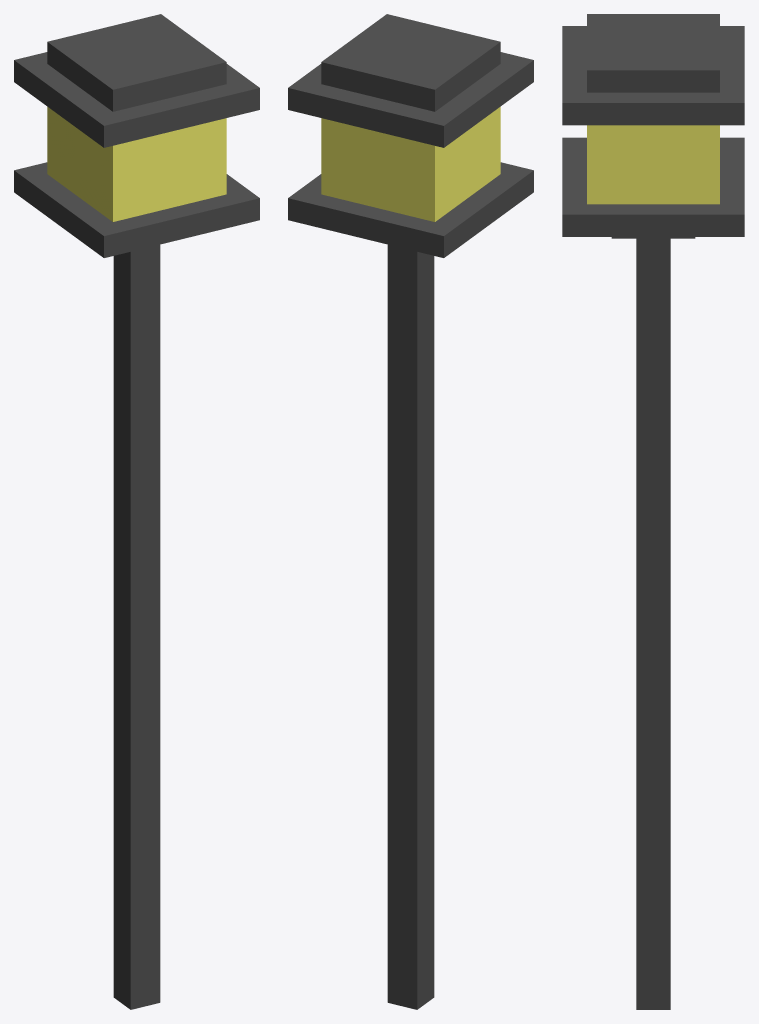
Rendered from largePost.gltf.
3 views of the same model, side by side, from view 1: azimuth 30°, elevation 25°; view 2: azimuth 150°, elevation 25°; view 3: azimuth 270°, elevation 25° (orthographic).
Parts seen in each view (by area): view 1: 088d94b4-bfa8-b13d-3b0f-8d89c7a740f9, 587c65e6-ebe7-c678-19a5-aa0e1d98896d, a1606d24-9326-ad17-ff07-e4dd0af6e23f, 0d2db774-0e00-a23d-6f2c-199df4cc744d, a0c8d789-b07d-1905-6dd7-1ca40553b066; view 2: 088d94b4-bfa8-b13d-3b0f-8d89c7a740f9, 587c65e6-ebe7-c678-19a5-aa0e1d98896d, a1606d24-9326-ad17-ff07-e4dd0af6e23f, 0d2db774-0e00-a23d-6f2c-199df4cc744d, a0c8d789-b07d-1905-6dd7-1ca40553b066; view 3: 088d94b4-bfa8-b13d-3b0f-8d89c7a740f9, 587c65e6-ebe7-c678-19a5-aa0e1d98896d, a1606d24-9326-ad17-ff07-e4dd0af6e23f, a0c8d789-b07d-1905-6dd7-1ca40553b066, 0d2db774-0e00-a23d-6f2c-199df4cc744d.
Boxes of the visible parts, x1=… form: 088d94b4-bfa8-b13d-3b0f-8d89c7a740f9: x1=113, y1=244, x2=160, y2=1009; 587c65e6-ebe7-c678-19a5-aa0e1d98896d: x1=47, y1=107, x2=226, y2=221; a1606d24-9326-ad17-ff07-e4dd0af6e23f: x1=47, y1=14, x2=226, y2=111; 0d2db774-0e00-a23d-6f2c-199df4cc744d: x1=14, y1=162, x2=259, y2=257; a0c8d789-b07d-1905-6dd7-1ca40553b066: x1=14, y1=52, x2=259, y2=147; 088d94b4-bfa8-b13d-3b0f-8d89c7a740f9: x1=387, y1=244, x2=434, y2=1009; 587c65e6-ebe7-c678-19a5-aa0e1d98896d: x1=321, y1=107, x2=500, y2=221; a1606d24-9326-ad17-ff07-e4dd0af6e23f: x1=321, y1=14, x2=500, y2=111; 0d2db774-0e00-a23d-6f2c-199df4cc744d: x1=288, y1=162, x2=533, y2=257; a0c8d789-b07d-1905-6dd7-1ca40553b066: x1=288, y1=52, x2=533, y2=147; 088d94b4-bfa8-b13d-3b0f-8d89c7a740f9: x1=636, y1=238, x2=670, y2=1009; 587c65e6-ebe7-c678-19a5-aa0e1d98896d: x1=587, y1=125, x2=719, y2=204; a1606d24-9326-ad17-ff07-e4dd0af6e23f: x1=587, y1=14, x2=719, y2=92; a0c8d789-b07d-1905-6dd7-1ca40553b066: x1=562, y1=26, x2=744, y2=125; 0d2db774-0e00-a23d-6f2c-199df4cc744d: x1=562, y1=137, x2=744, y2=236.
Size of the model in its own units: 0.4625 by 2.69 by 0.4625.
Materials: 2 (2 with a texture image).
